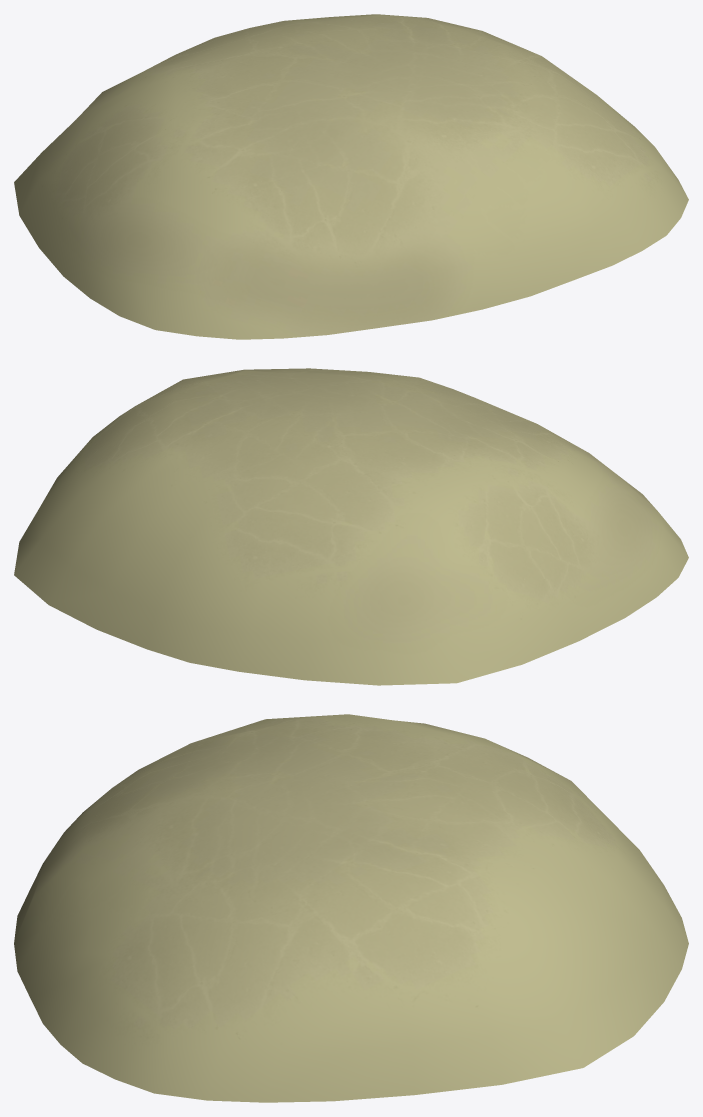
The model's file is Cup_Of_Head.FBX.
The picture shows the model from 3 angles, top to bottom: view 1: azimuth 30°, elevation 25°; view 2: azimuth 150°, elevation 25°; view 3: azimuth 270°, elevation 25°; orthographic projection. The views are drawn at different scales.
Parts seen in each view (by area): view 1: cup_of_head; view 2: cup_of_head; view 3: cup_of_head.
Part boxes in pixels (x1,y1,x2,y2): cup_of_head: [14, 14, 688, 339]; cup_of_head: [14, 368, 688, 685]; cup_of_head: [14, 714, 688, 1102].
Size of the model in its own units: 4.39 by 3.94 by 1.04.
Materials: 1 (1 with a texture image).
